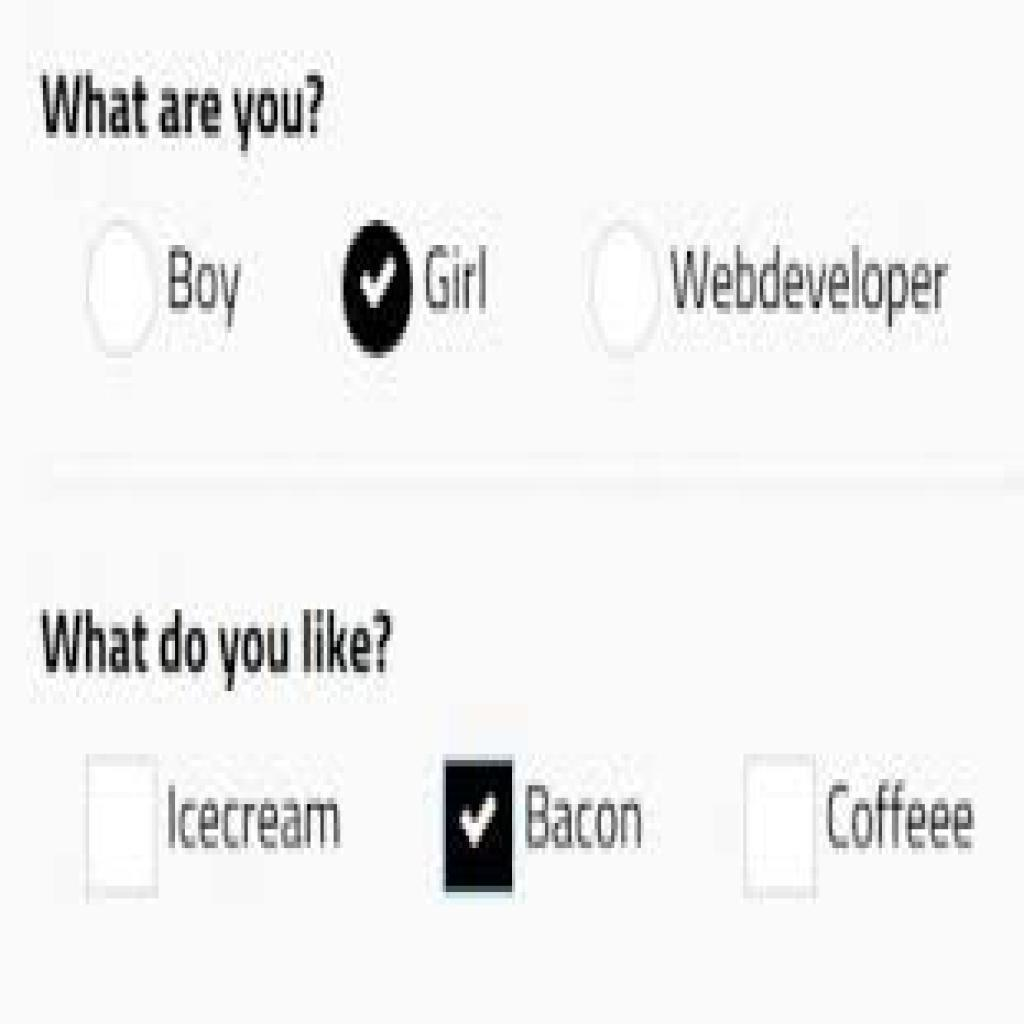checkbox: (741, 753, 821, 902), (85, 754, 161, 902), (442, 758, 517, 896)
label: (40, 602, 398, 697), (668, 240, 950, 336), (39, 64, 329, 157), (165, 778, 346, 857), (825, 778, 978, 858), (524, 780, 649, 855), (167, 242, 243, 334), (422, 238, 491, 319)
radio: (84, 213, 158, 362), (339, 219, 416, 362), (584, 222, 661, 357)
